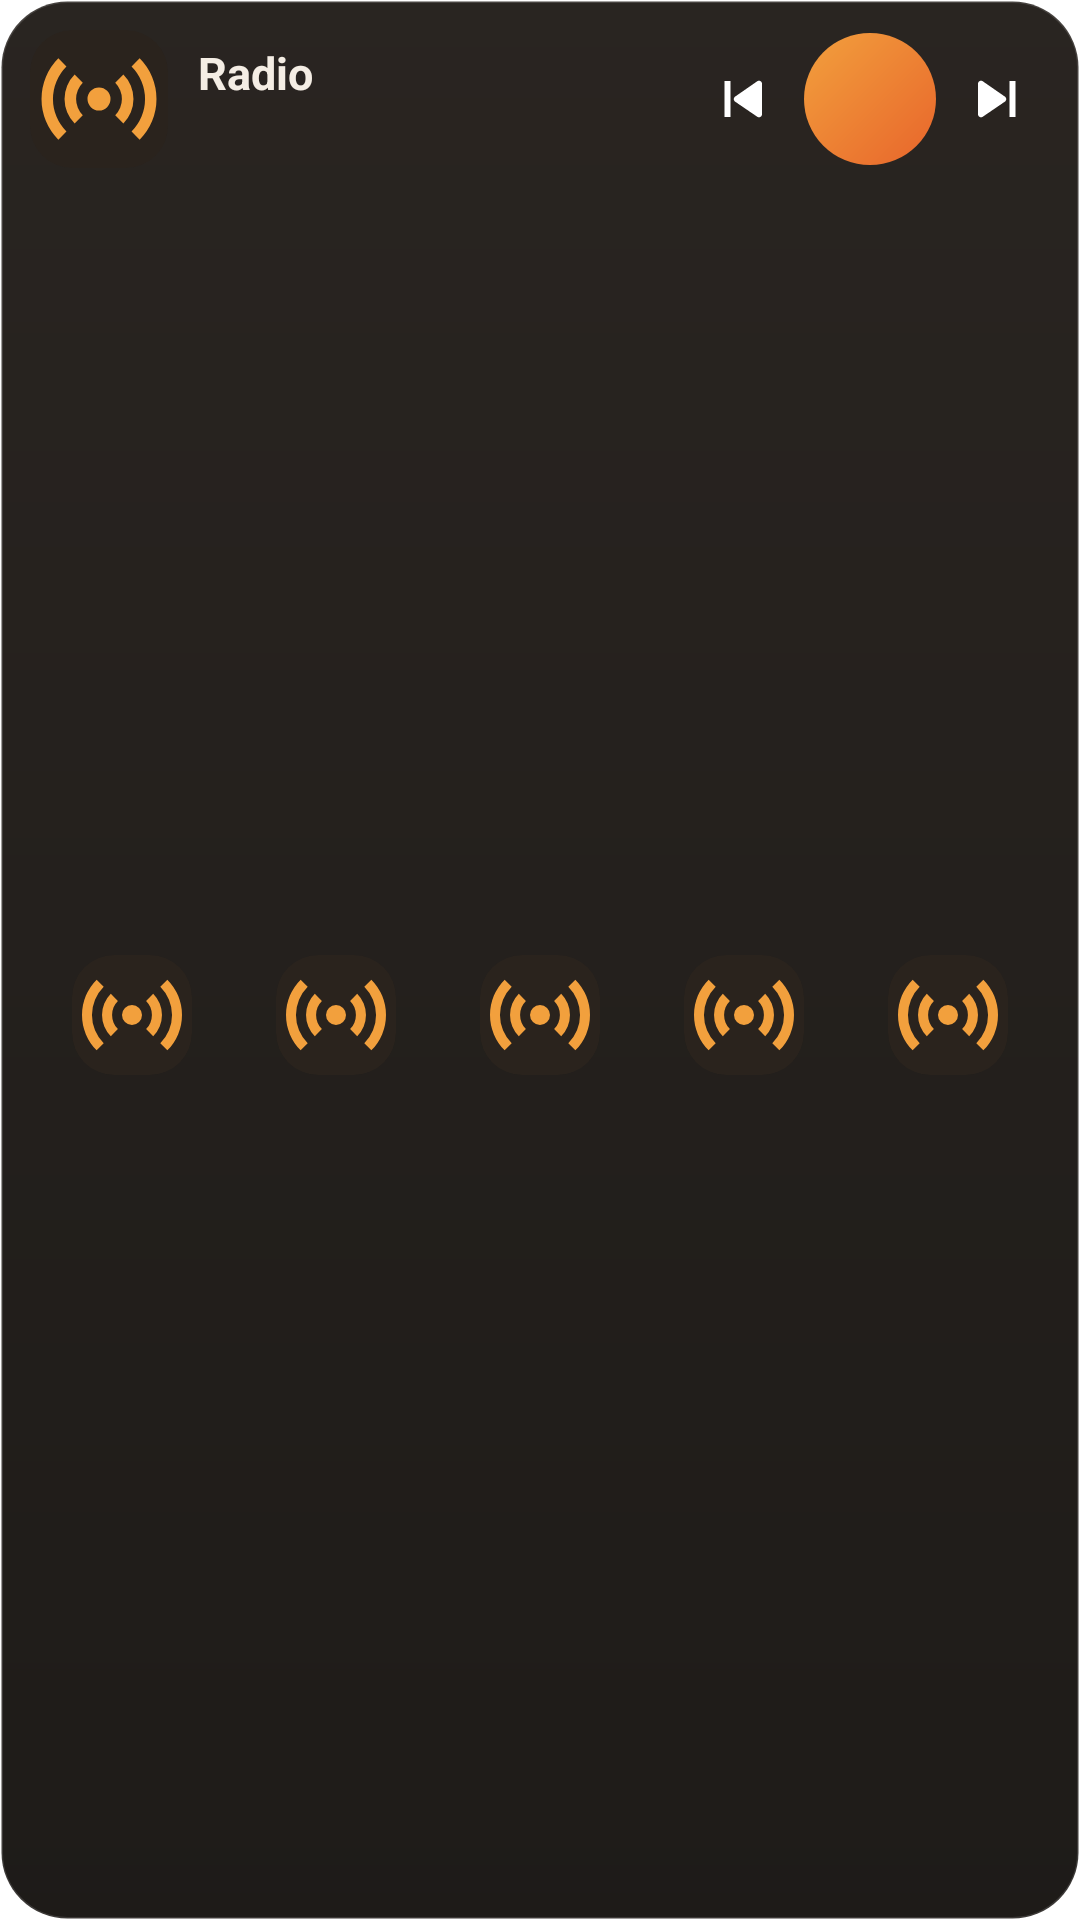

Named icons in this screenshot (1080px x 1920px) and their centers, (x,y):
Next: (997,99)
Previous: (743,99)
